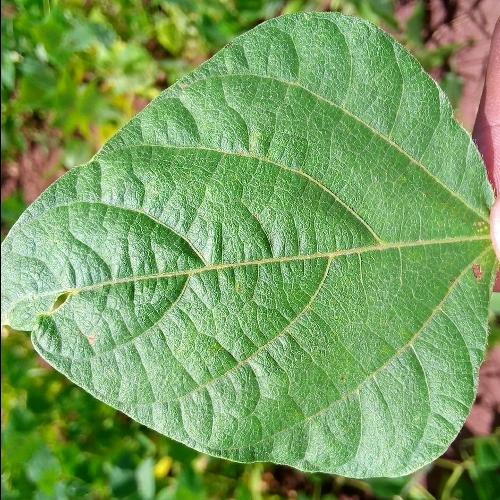hawar: (459, 256, 490, 290)
mozaik: (106, 153, 335, 412)
